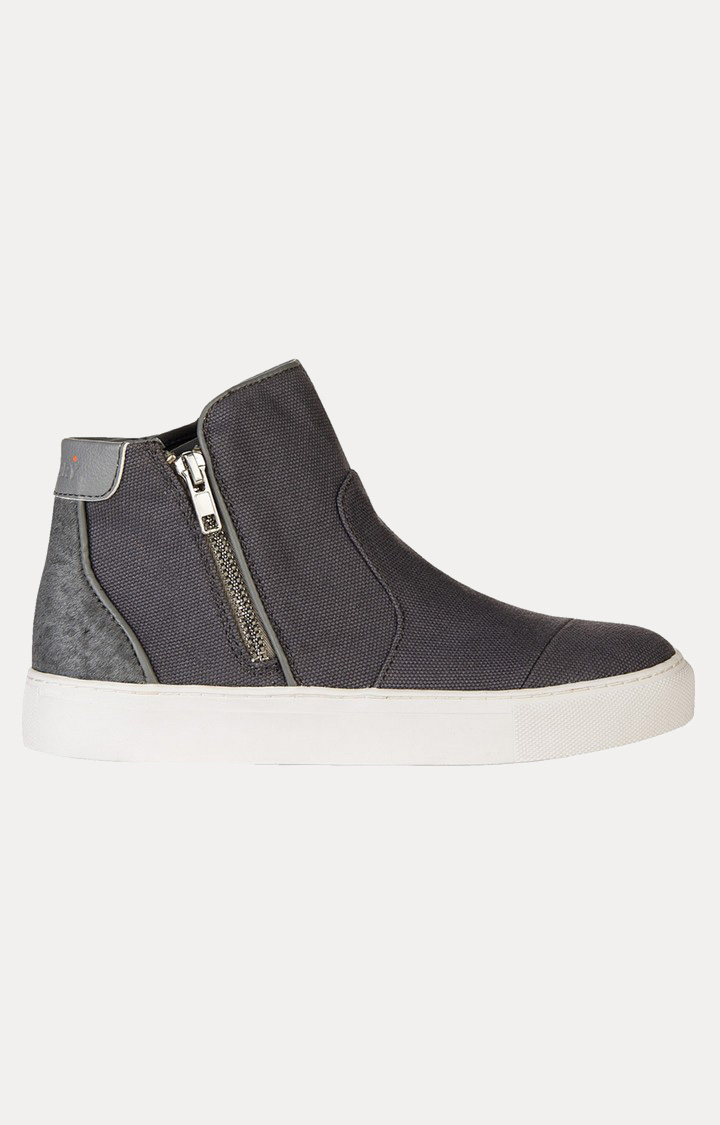zip: (128, 430, 325, 673)
